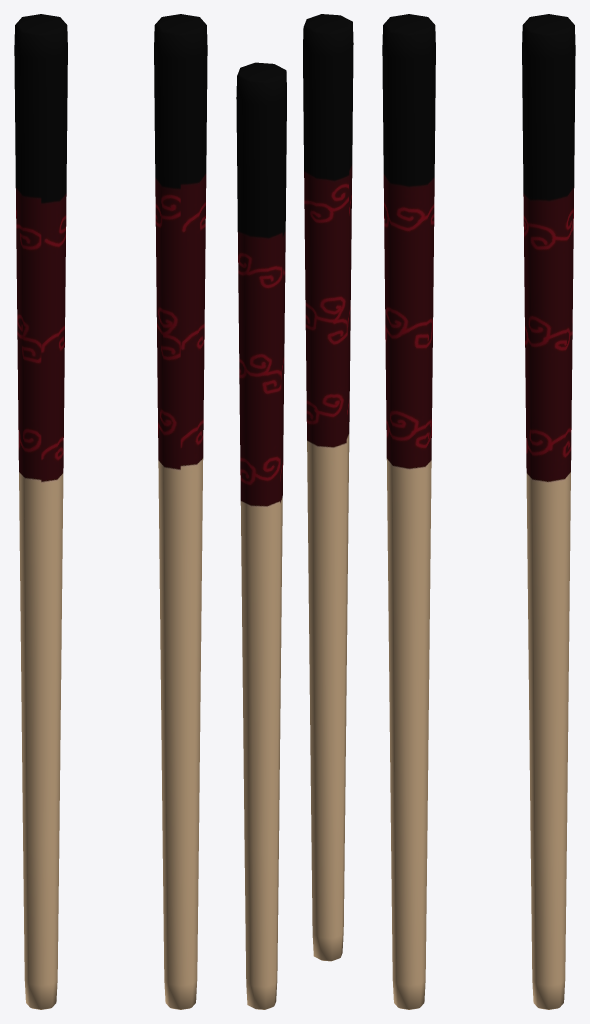
Rendered from štapići fbx- negativni lik.fbx.
3 views of the same model, side by side, from view 1: azimuth 90°, elevation 25°; view 2: azimuth 150°, elevation 25°; view 3: azimuth 270°, elevation 25° (orthographic). The views are drawn at different scales.
Visible parts, largest first — view 1: stapici; view 2: stapici; view 3: stapici.
Part boxes in pixels (x1,y1,x2,y2): stapici: (14,14,207,1009); stapici: (236,14,353,1009); stapici: (382,14,575,1009).
Bounding box in the file's own units: 2.01 × 40.58 × 7.24.
Materials: 1 (1 with a texture image).
